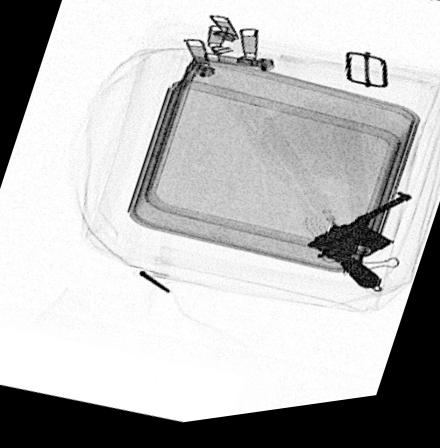Gun: (305, 203, 414, 301)
